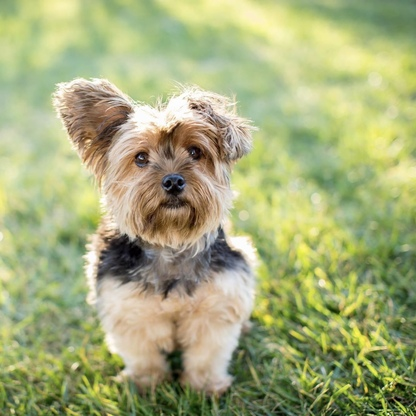yorkshire: (48, 76, 253, 393)
